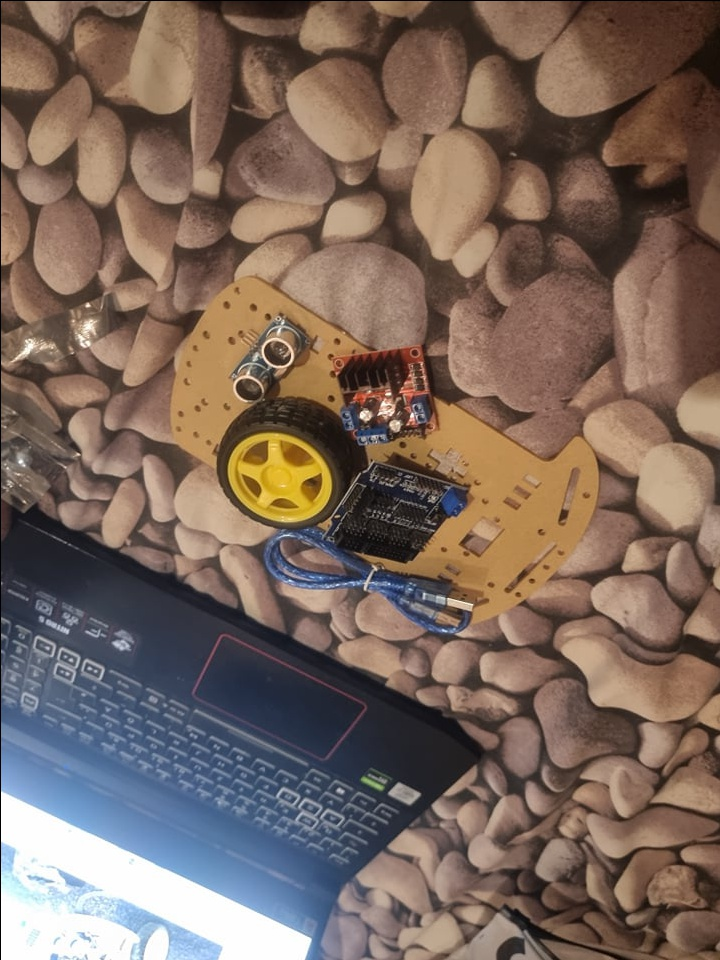5V EXPANSION: (318, 460, 472, 564)
MOTOR: (331, 344, 442, 447)
SENSOR: (224, 313, 307, 408)
